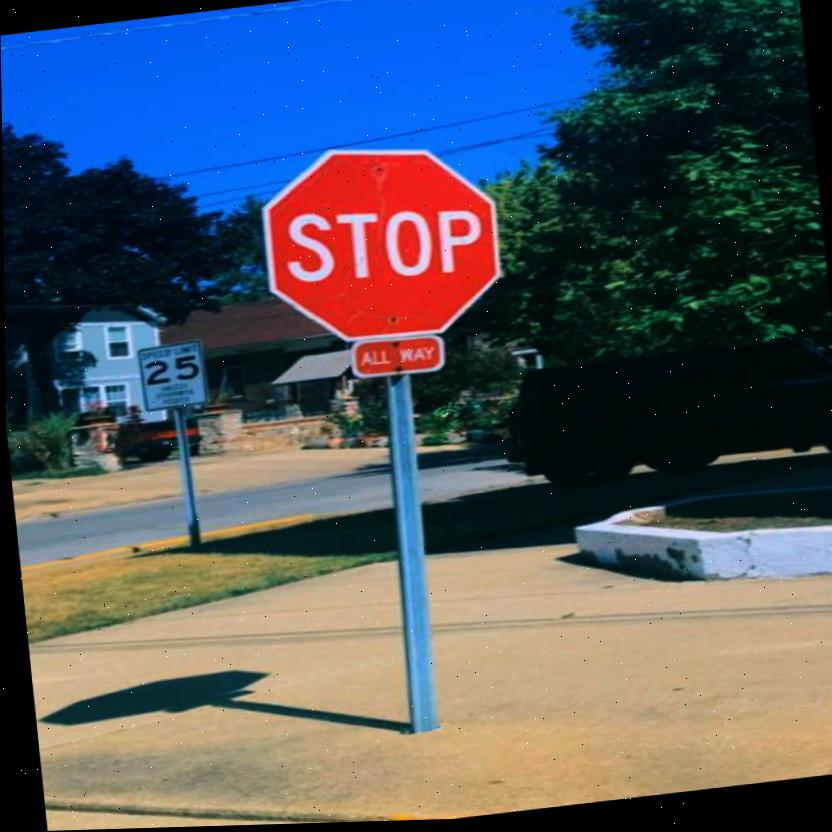Pole: (381, 379, 440, 737), (170, 411, 198, 548)
Sign: (261, 139, 498, 350)
